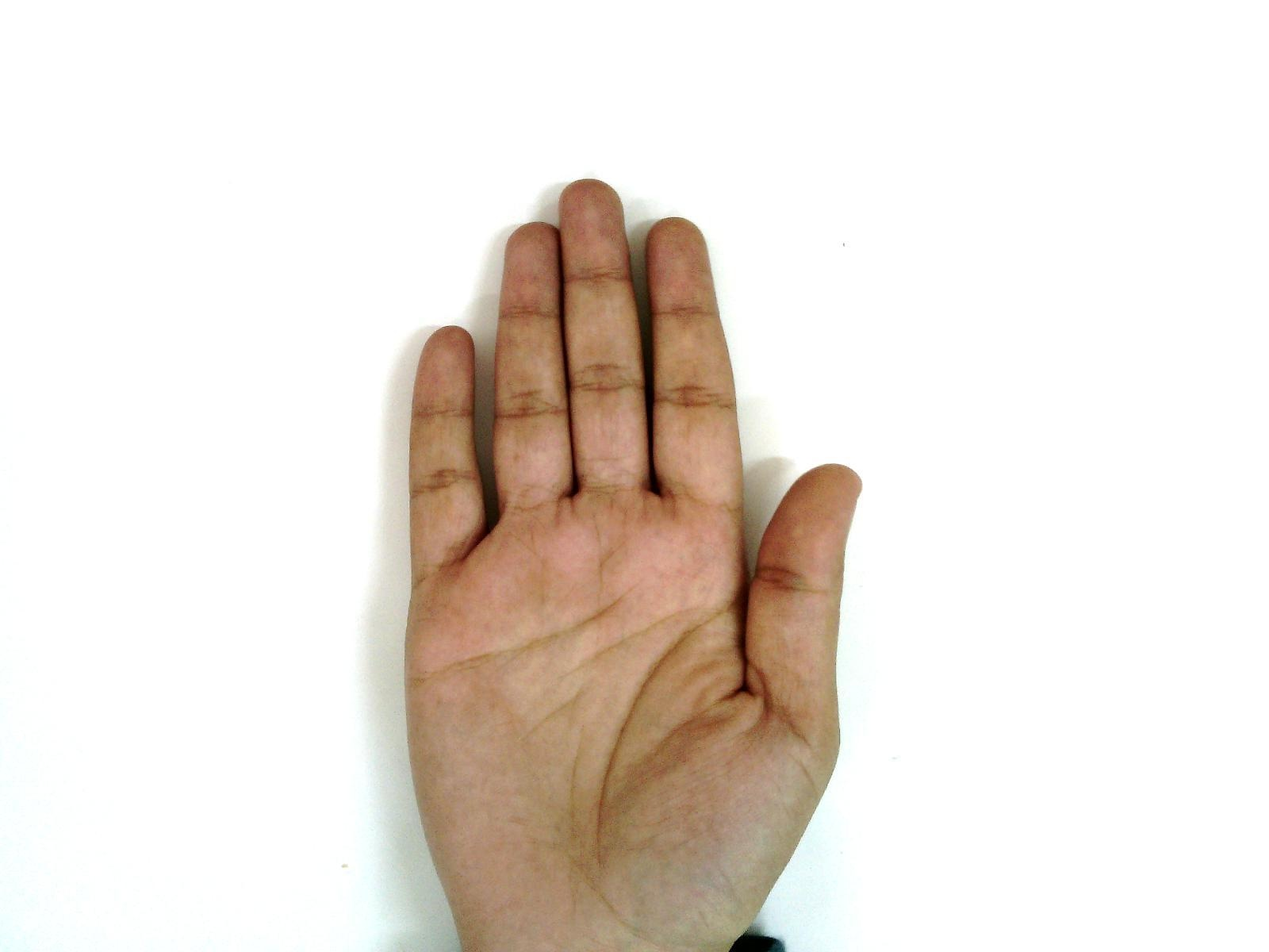open_palm: (399, 178, 865, 951)
